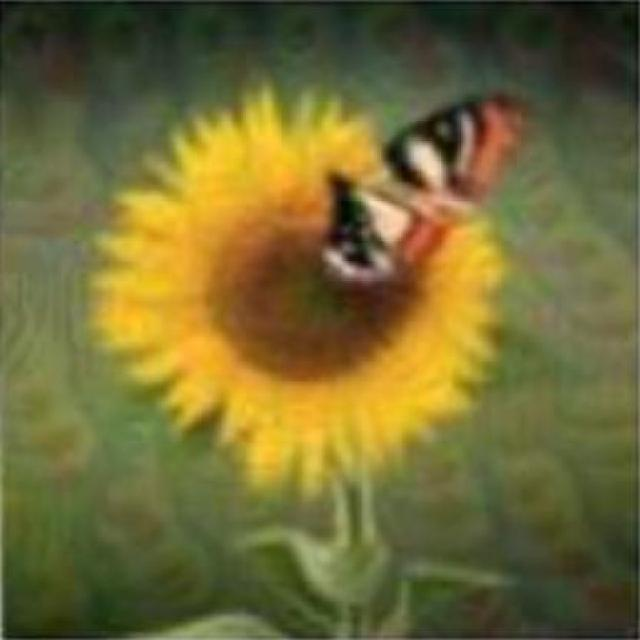sunflower: (80, 93, 531, 485)
